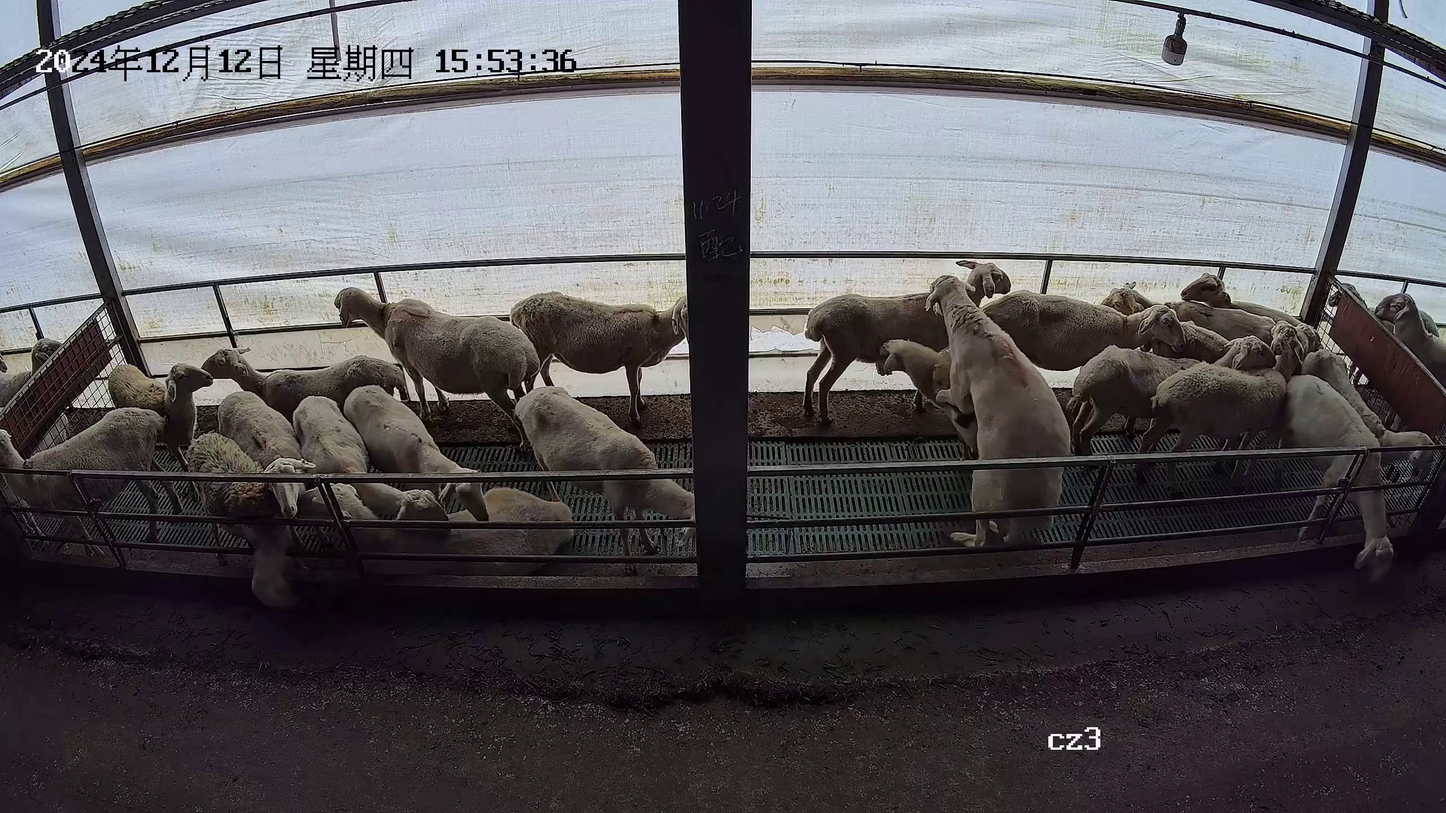Smounting: (870, 273, 1073, 550)
mounted: (876, 336, 979, 458)
